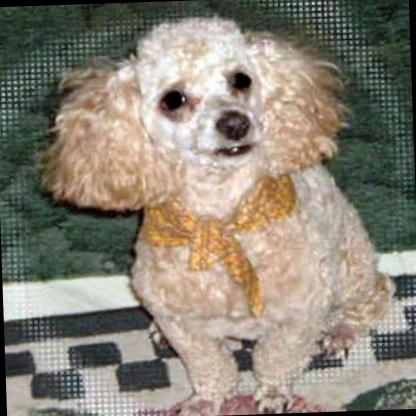toy_poodle: (36, 9, 393, 416)
